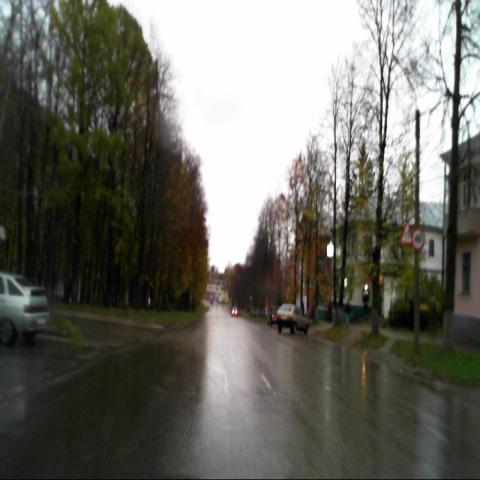1_23: (399, 220, 414, 246)
